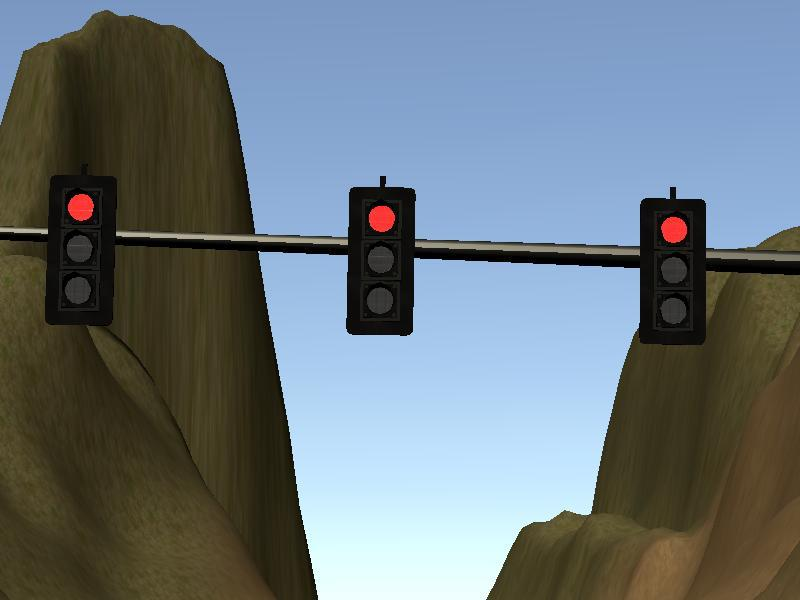Red: (642, 200, 705, 341), (50, 179, 112, 322), (350, 190, 412, 333)
